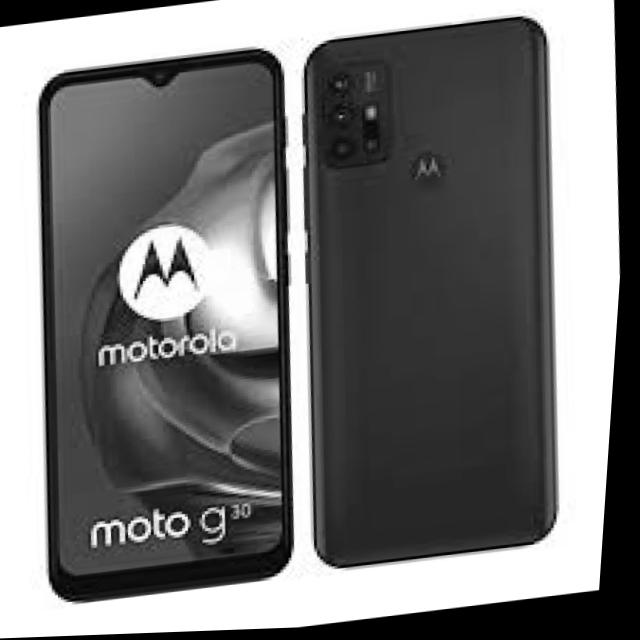Smartphone: (266, 4, 610, 586), (0, 32, 339, 609)
